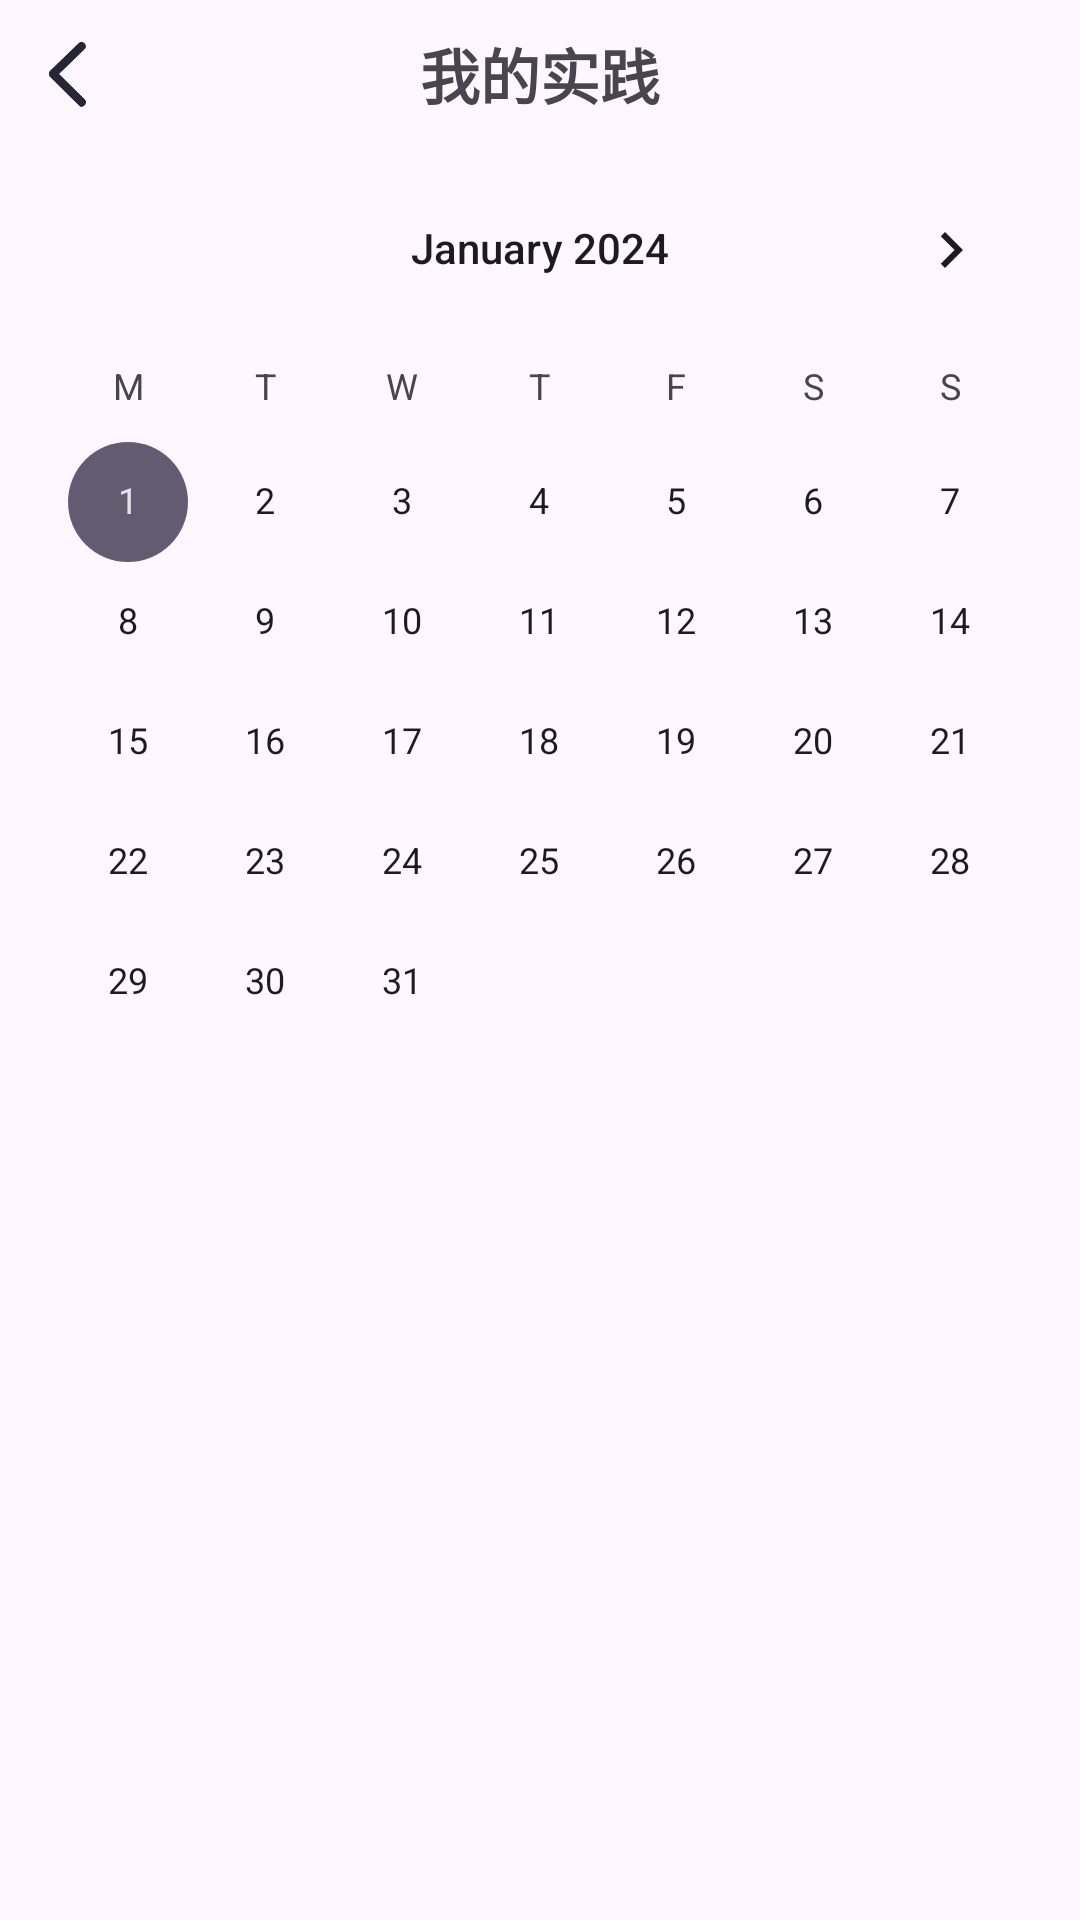

Where icons sit on this 1080w x 1920h app screen, as (x1, y1, x2, y2):
arrow left: (49, 42, 86, 107)
